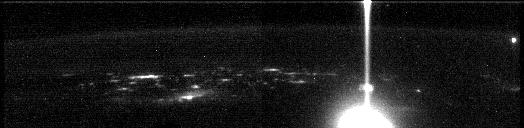positive: (357, 82, 377, 94)
